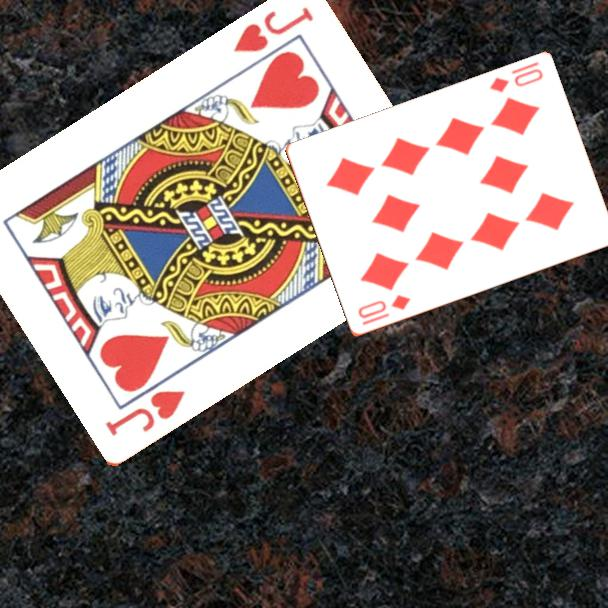d10: (485, 58, 546, 96), (354, 291, 413, 322)
h11: (101, 387, 189, 440), (230, 3, 317, 56)
